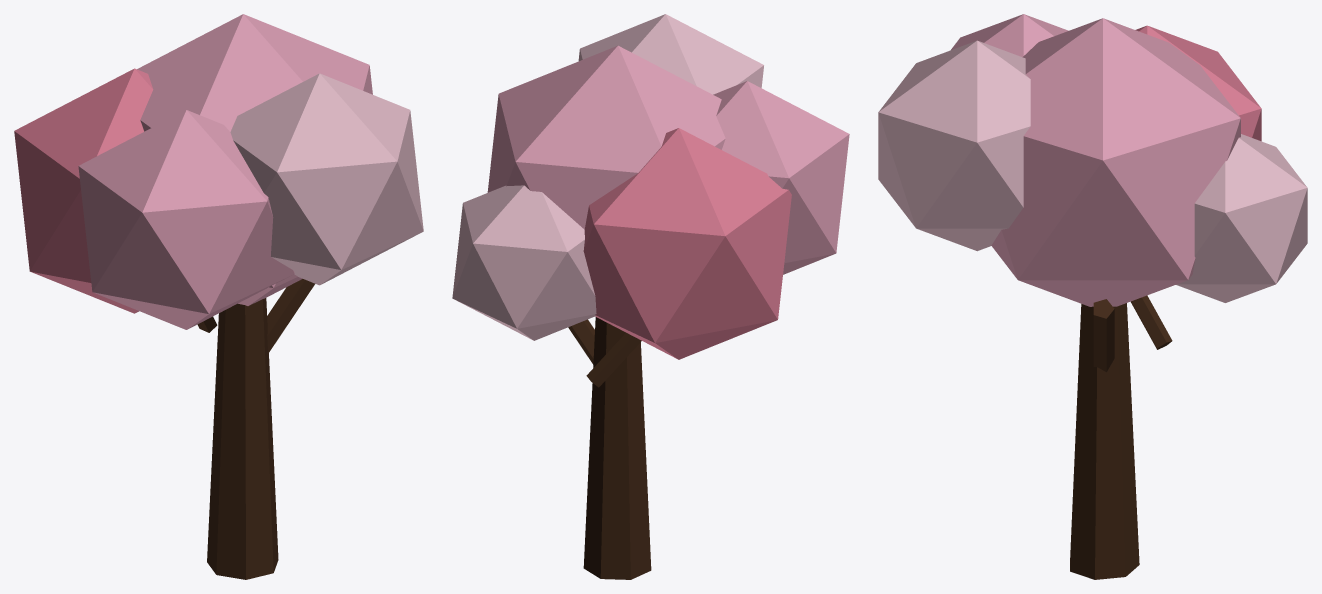
The model's file is SM_GZ_tree_cherry.fbx.
3 views of the same model, side by side, from view 1: azimuth 30°, elevation 25°; view 2: azimuth 150°, elevation 25°; view 3: azimuth 270°, elevation 25° (orthographic). The views are drawn at different scales.
Visible parts, largest first — view 1: SM_GZ_tree_cherry; view 2: SM_GZ_tree_cherry; view 3: SM_GZ_tree_cherry.
Part boxes in pixels (x1,y1,x2,y2): SM_GZ_tree_cherry: (14,14,423,579); SM_GZ_tree_cherry: (452,14,849,579); SM_GZ_tree_cherry: (878,14,1307,579).
Bounding box in the file's own units: 379 × 627 × 446.
